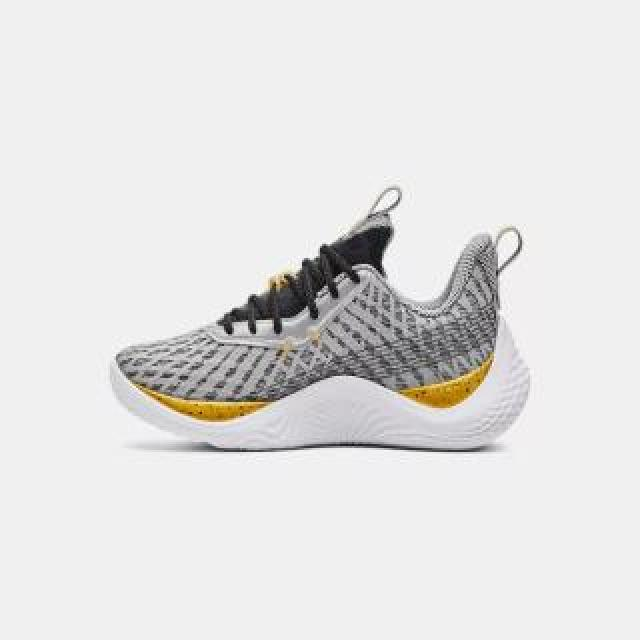shoe: (110, 188, 532, 450)
